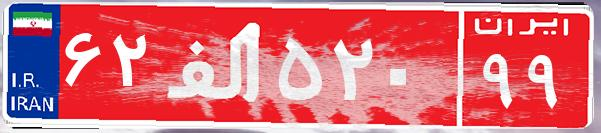0: (385, 28, 445, 110)
2: (330, 28, 385, 110), (110, 28, 158, 105)
5: (273, 28, 330, 110)
6: (57, 26, 110, 107)
9: (475, 38, 525, 113), (525, 38, 570, 115)
الف: (158, 15, 273, 115)
